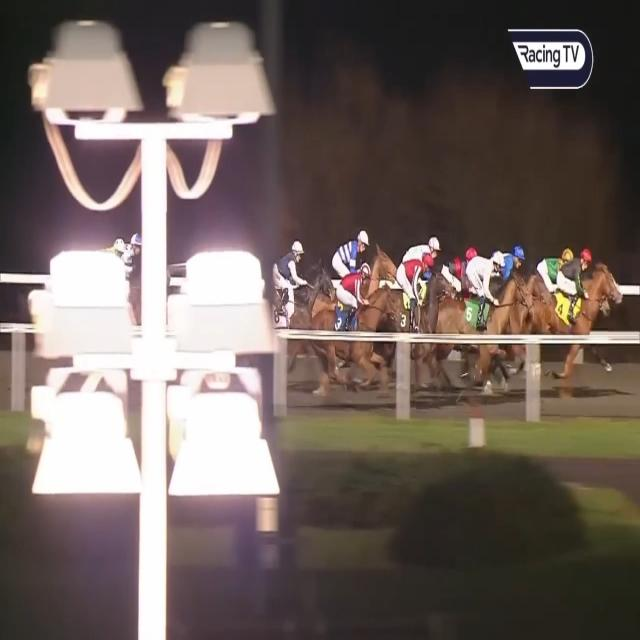horses-racing: (538, 245, 610, 370), (264, 234, 330, 368), (387, 250, 450, 362), (325, 255, 385, 363), (459, 244, 513, 357), (526, 237, 578, 328), (334, 219, 385, 281), (440, 237, 489, 297), (496, 239, 538, 286), (398, 228, 448, 260)
